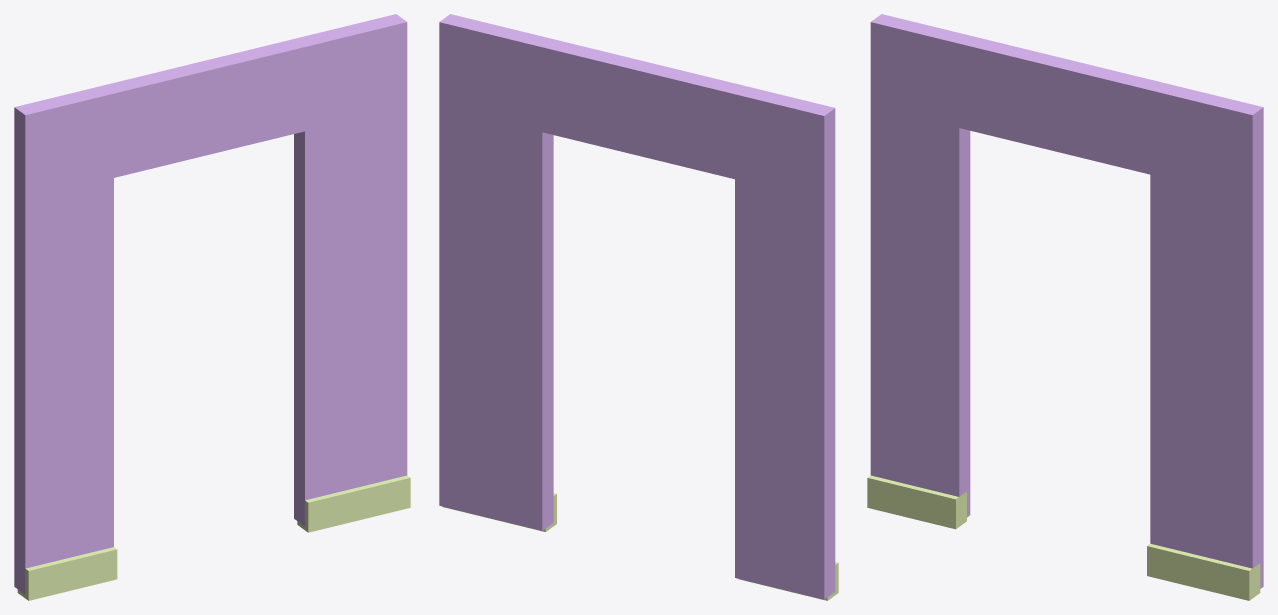
File: tetstsa.glb
3 renders of one model, left to right at view 1: azimuth 30°, elevation 25°; view 2: azimuth 150°, elevation 25°; view 3: azimuth 330°, elevation 25°, orthographic.
Parts seen in each view (by area): view 1: Cube.033, Cube.032; view 2: Cube.033, Cube.032; view 3: Cube.033, Cube.032.
Part boxes in pixels (x1,y1,x2,y2): Cube.033: (14,14,407,594); Cube.032: (17,475,410,600); Cube.033: (439,14,835,599); Cube.032: (443,493,838,600); Cube.033: (870,14,1263,588); Cube.032: (867,475,1260,600).
Bounding box in the file's own units: 2 × 2.42 × 0.1298.
